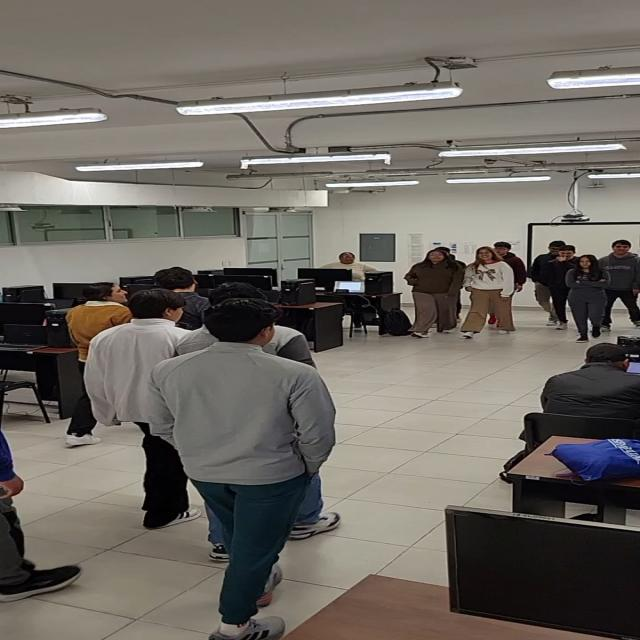Persona: (159, 298, 324, 640), (88, 287, 192, 525), (63, 278, 129, 442), (462, 243, 519, 341), (405, 246, 459, 340), (570, 254, 612, 343), (601, 240, 640, 331), (544, 243, 574, 331)
